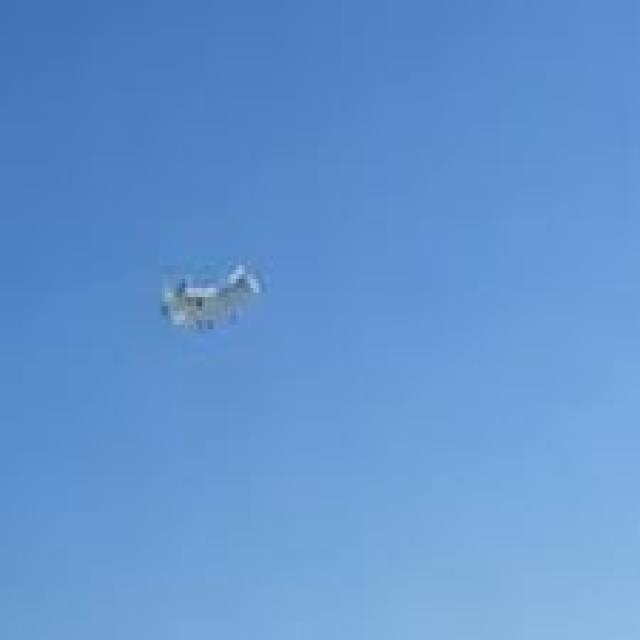iha: (192, 288, 237, 306)
